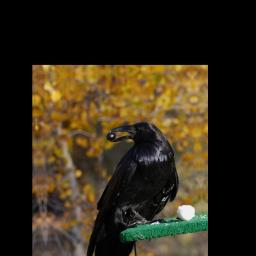Crow: (76, 119, 187, 256)
